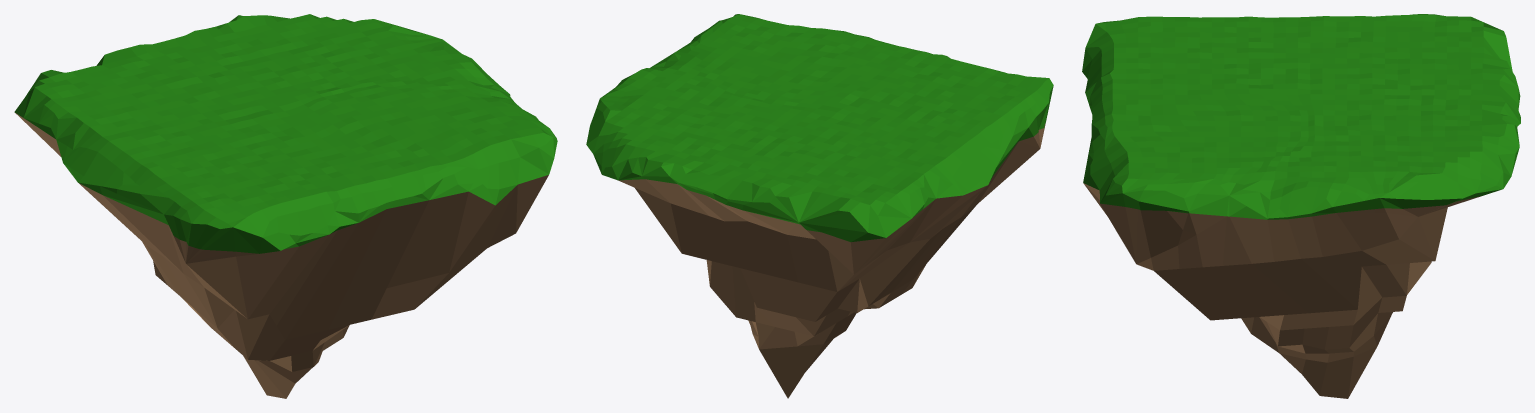
File: 2PartAlpha.fbx
3 renders of one model, left to right at view 1: azimuth 30°, elevation 25°; view 2: azimuth 150°, elevation 25°; view 3: azimuth 270°, elevation 25°, orthographic. The views are drawn at different scales.
Parts seen in each view (by area): view 1: UpperLayer, LowerLayer; view 2: UpperLayer, LowerLayer; view 3: UpperLayer, LowerLayer.
Part boxes in pixels (x1=…): UpperLayer: x1=14, y1=14, x2=557, y2=253; LowerLayer: x1=15, y1=113, x2=548, y2=398; UpperLayer: x1=586, y1=14, x2=1053, y2=241; LowerLayer: x1=618, y1=123, x2=1045, y2=398; UpperLayer: x1=1082, y1=14, x2=1520, y2=219; LowerLayer: x1=1083, y1=183, x2=1481, y2=398.
Bounding box in the file's own units: 29627 × 21263 × 27933.
